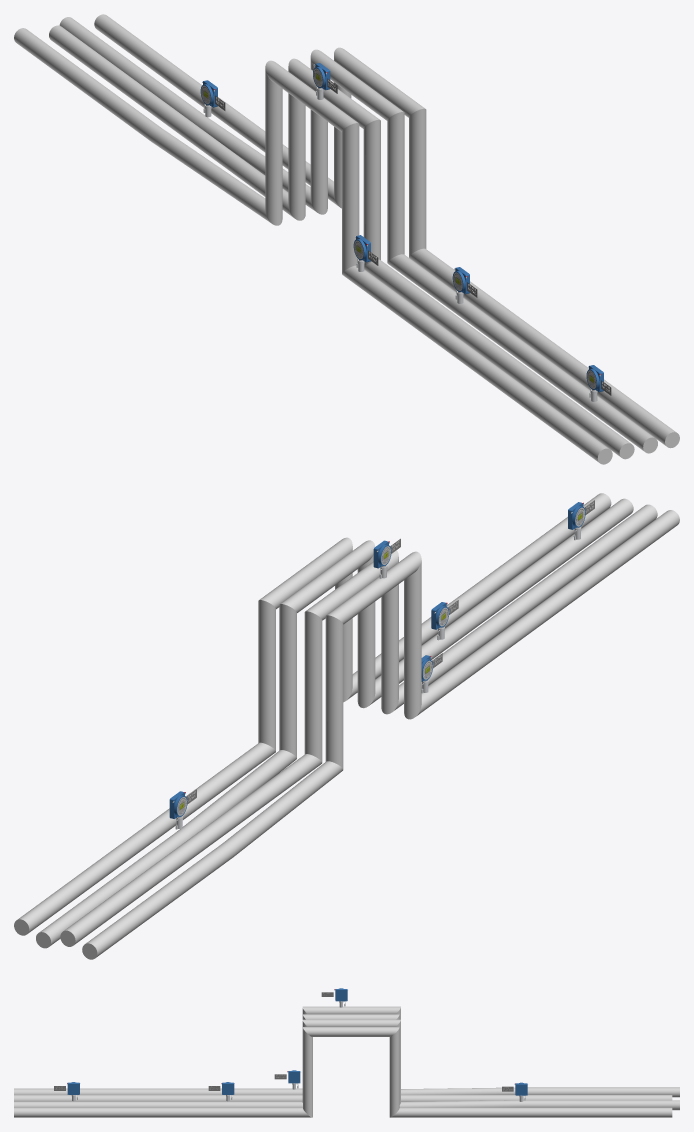
The model's file is mtzt.obj.
3 views of the same model, one above another, from view 1: azimuth 30°, elevation 25°; view 2: azimuth 150°, elevation 25°; view 3: azimuth 270°, elevation 25° (orthographic). The views are drawn at different scales.
Parts seen in each view (by area): view 1: Mesh144 Model, Mesh143 Model, Mesh142 Model, Mesh141 Model; view 2: Mesh144 Model, Mesh143 Model, Mesh142 Model, Mesh141 Model; view 3: Mesh141 Model, Mesh142 Model, Mesh144 Model, Mesh143 Model.
Part boxes in pixels (box(x1,y1,x2,y2)): Mesh144 Model: box(14, 28, 612, 464); Mesh143 Model: box(49, 25, 634, 459); Mesh142 Model: box(59, 17, 657, 453); Mesh141 Model: box(94, 14, 679, 448); Mesh144 Model: box(82, 510, 679, 959); Mesh143 Model: box(60, 504, 657, 946); Mesh142 Model: box(36, 498, 633, 948); Mesh141 Model: box(14, 493, 611, 935); Mesh141 Model: box(14, 1027, 672, 1117); Mesh142 Model: box(14, 1019, 679, 1110); Mesh144 Model: box(14, 1006, 679, 1097); Mesh143 Model: box(14, 1014, 672, 1101).
Size of the model in its own units: 458 by 940 by 5178.
6 materials, 1 textured.
